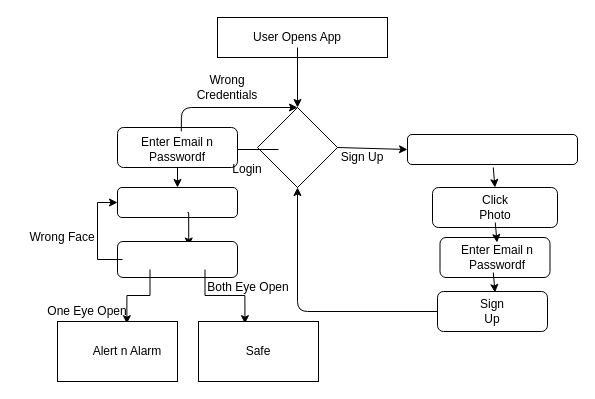
This 595x399 diagram has some shape labels left out. The box of each missing label's shape, as (x1, y1, x2, y2) in pixels:
Check Eyes Open or Close: (116, 240, 238, 278)
Check Face: (116, 186, 238, 218)
Enter Name,DOB,Last Name , Licence Number,: (406, 134, 578, 164)
Login or Sign Up?: (256, 106, 338, 188)
